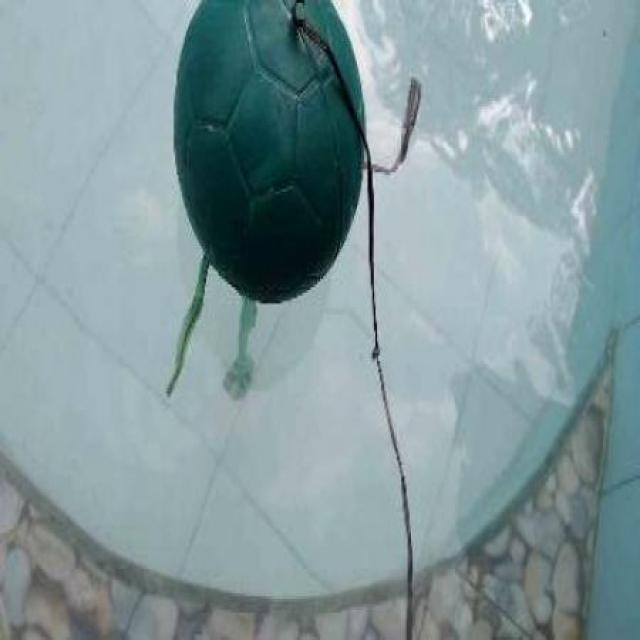buoy: (174, 1, 365, 305)
